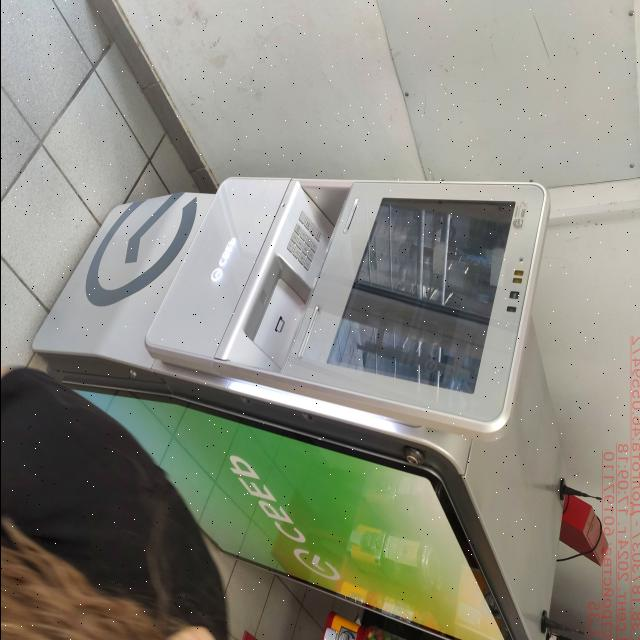bank: (32, 174, 570, 640)
